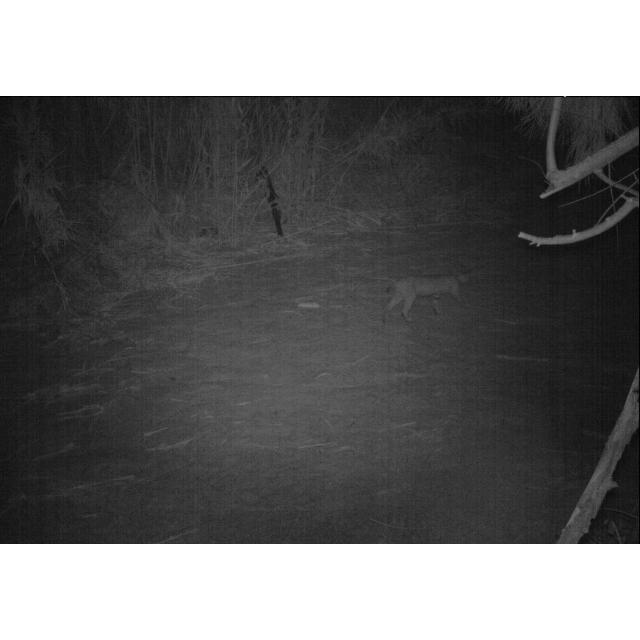animals: (382, 268, 470, 324)
